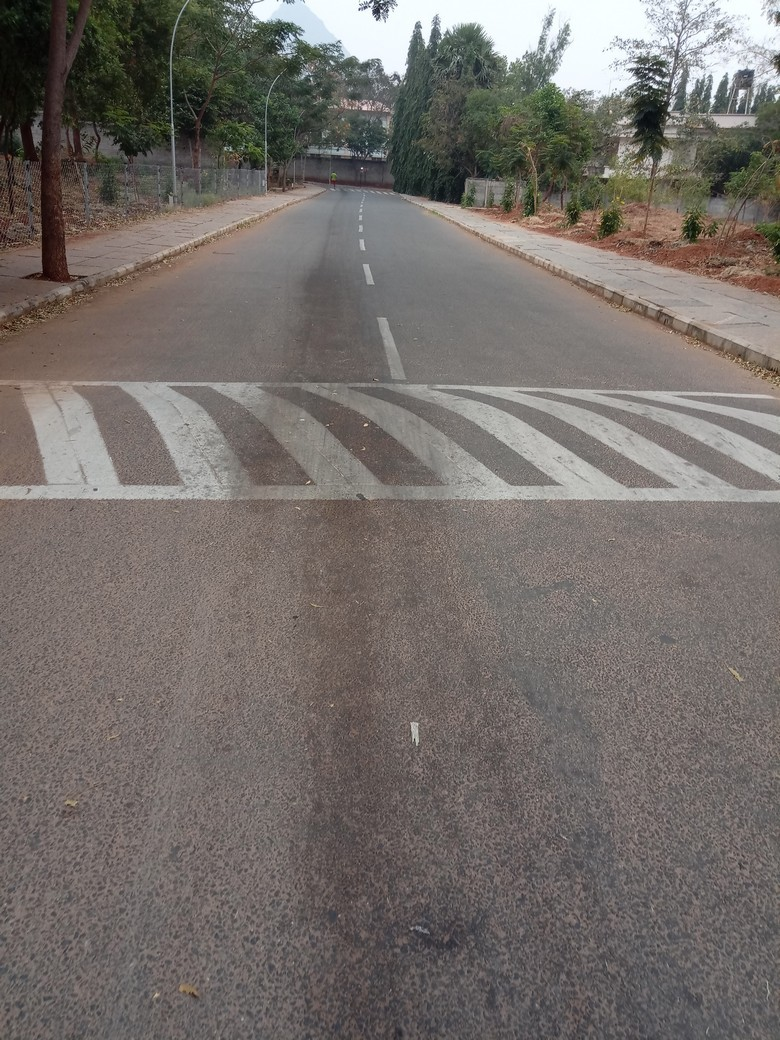bump: (1, 381, 780, 500)
